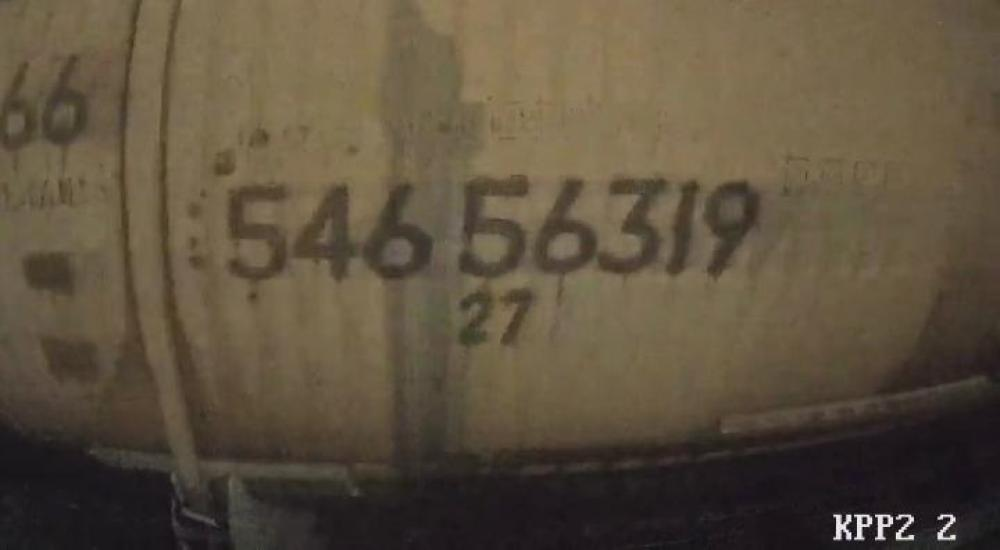Wagon-number: (217, 174, 772, 282)
